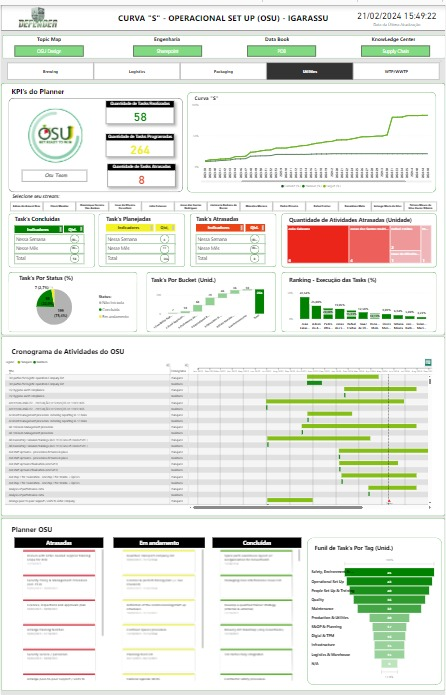

The dashboard page shown, as its layout file describes it:
{"tool":"powerbi","page":{"name":"OSU Planner KPI's","canvas":[1800,2800],"ordinal":0},"visuals":[{"type":"shape","box":[5,122.5,1795,95],"z":0},{"type":"shape","box":[0,1346,1800,728],"z":1000},{"type":"shape","box":[0,317.5,1800,1022.5],"z":2000},{"type":"textbox","box":[92,954,276,40],"z":3000},{"type":"shape","box":[622.5,122.5,132.5,32.5],"z":5000},{"type":"shape","box":[30,846.2,350,218.8],"z":6000},{"type":"shape","box":[40,327.5,237.5,45],"z":7000},{"type":"shape","box":[52,852,228,32],"z":8000},{"type":"GanttChartByMAQSoftware1448688115701","fields":{"EndDate":["Min(Cronograma Consolidado.Finish)"],"Category":["Consolidado (3).title"],"StartDate":["Min(Cronograma Consolidado.startDateTime)"],"KPIValueBag":["Cronograma Consolidado.Cronograma"],"Legend":["Cronograma Consolidado.Cronograma"]},"box":[10,1430,1738,620],"z":9000},{"type":"shape","box":[40,1377.5,500,42.5],"z":10000},{"type":"actionButton","box":[532.5,165,280,45],"z":11000},{"type":"slicer","title":"Linha","fields":{"Values":["Consolidado.Planner Name"]},"box":[0,217.5,1800,90],"z":12000},{"type":"textbox","box":[55,890.8,195.8,30.8],"z":13000},{"type":"textbox","box":[54,928,282,40],"z":14000},{"type":"textbox","box":[54,968,282,40],"z":15000},{"type":"textbox","box":[54,1008,282,40],"z":16000},{"type":"shape","box":[280,930,38,36],"z":17000},{"type":"shape","box":[1136.7,845,628.3,218.3],"z":18000},{"type":"treemap","fields":{"Group":["Lista de Task por Usuario.Nome do Usuario"],"Values":["Consolidado.Total acumulado Late"]},"box":[1155,885,593.3,163.3],"z":19000},{"type":"shape","box":[1167.1,852.9,545.7,34.3],"z":20000},{"type":"card","fields":{"Values":["Consolidado.Total acumulado de SA Real"]},"box":[280,934,36,30],"z":21000},{"type":"shape","box":[280,970,38,36],"z":22000},{"type":"shape","box":[0,0,1800,103.3],"z":23000},{"type":"card","fields":{"Values":["Min(Data da Última Atualização.Data da Última Atualização)"]},"box":[1401.7,0,398.3,103.3],"z":24000},{"type":"actionButton","box":[1457.5,165,280,45],"z":26000},{"type":"shape","box":[1500,122.5,192.5,35],"z":27000},{"type":"shape","box":[147.5,122.5,130,32.5],"z":29000},{"type":"actionButton","box":[57.5,165,280,45],"z":30000},{"type":"actionButton","box":[995,165,280,45],"z":31000},{"type":"shape","box":[1072.5,122.5,132.5,35],"z":32000},{"type":"card","fields":{"Values":["Consolidado.S Curve (EEM) - Total Complete Tasks Accumulated Utilities"]},"box":[312,432.3,68,26],"z":33000},{"type":"shape","box":[30,376.7,706.7,381.7],"z":34000},{"type":"shape","box":[28,754.1,222.1,46.7],"z":35000},{"type":"simpleImageEBC4593F96F1425FB3D84C5BF02B5075","fields":{"imageURL":["Planilha1.Column2"]},"box":[63.3,406.7,320,246.7],"z":36000},{"type":"card","title":"Produzido D-1 (HL)","fields":{"Values":["Min(Fotos Streams.Column1)"]},"box":[83.3,666.7,263.3,46.7],"z":37000},{"type":"slicer","title":"Linha","fields":{"Values":["Fotos Streams.Column1"]},"box":[9.3,787.7,1777,50.4],"z":38000},{"type":"shape","box":[1136,1082,628,244],"z":39000},{"type":"shape","box":[1168,1095.4,477.3,35.2],"z":40000},{"type":"lineStackedColumnComboChart","fields":{"Category":["Lista de Task por Usuario (2).Nome do Usuario"],"Y":["Consolidado (2).S Curve (EEM) - Total Complete Tasks Accumulated 2"]},"box":[1156,1132,592,192],"z":41000},{"type":"shape","box":[396.7,846.7,350,216.7],"z":42000},{"type":"shape","box":[763.3,846.7,350,216.7],"z":43000},{"type":"shape","box":[280,1010,38,36],"z":44000},{"type":"card","fields":{"Values":["Consolidado.Total acumulado de SA Real"]},"box":[280,975,36.2,28.8],"z":45000},{"type":"card","fields":{"Values":["Consolidado.Total acumulado de SA Real"]},"box":[280,1015,36.2,28.8],"z":46000},{"type":"shape","box":[428,852,230,32],"z":47000},{"type":"shape","box":[790,852,228,32],"z":48000},{"type":"textbox","box":[625.7,887.1,80,30],"z":49000},{"type":"textbox","box":[424.5,886.4,193.6,30.8],"z":50000},{"type":"textbox","box":[257.4,890.8,79.2,28.6],"z":51000},{"type":"textbox","box":[789.7,886.4,193.6,30.8],"z":52000},{"type":"textbox","box":[989.8,886.4,79.2,30.8],"z":53000},{"type":"textbox","box":[425,927.5,280,40],"z":54000},{"type":"textbox","box":[790,927.5,280,40],"z":55000},{"type":"textbox","box":[425,967.5,280,40],"z":56000},{"type":"textbox","box":[790,967.5,280,40],"z":57000},{"type":"shape","box":[756,350,1010,408],"z":58000},{"type":"textbox","box":[425,1007.5,280,40],"z":59000},{"type":"textbox","box":[790,1007.5,280,40],"z":60000},{"type":"shape","box":[0,2080,1800,700],"z":61000},{"type":"shape","box":[590,1082,524,244],"z":62000},{"type":"shape","box":[784,358,230,32],"z":63000},{"type":"shape","box":[30,1082,522,244],"z":64000},{"type":"lineChart","fields":{"Category":["Calendar_suporte.SA"],"Y":["Consolidado.S Curve (EEM) - Total Complete Tasks Accumulated Utilities","Consolidado.S Curve (EEM) - Total Planned Tasks Accumulated Utilities","Consolidado.S Curve (EEM) - Total Planner Accumulated Utlities"]},"box":[764,388,984,364],"z":65000},{"type":"shape","box":[645.6,930,37.8,36.7],"z":66000},{"type":"shape","box":[1010,930,38.9,36.7],"z":67000},{"type":"card","fields":{"Values":["Consolidado.Soma de quantidade por SA Plam"]},"box":[646.7,934.4,35.6,30],"z":68000},{"type":"card","fields":{"Values":["Consolidado.Total acumulado Late"]},"box":[1010,934.4,35.6,30],"z":69000},{"type":"shape","box":[646.7,970,37.8,35.6],"z":70000},{"type":"shape","box":[1008.9,970,37.8,35.6],"z":71000},{"type":"shape","box":[646.7,1010,37.8,35.6],"z":72000},{"type":"shape","box":[1008.9,1010,37.8,35.6],"z":73000},{"type":"card","fields":{"Values":["Consolidado.Soma de quantidade por SA Plam"]},"box":[646.7,975.6,36.7,27.8],"z":74000},{"type":"card","fields":{"Values":["Consolidado.Soma de quantidade por SA Plam"]},"box":[647.8,1014.4,36.7,27.8],"z":75000},{"type":"card","fields":{"Values":["Consolidado.Total acumulado Late"]},"box":[1008.9,974.4,36.7,27.8],"z":76000},{"type":"card","fields":{"Values":["Consolidado.Total acumulado Late"]},"box":[1008.9,1014.4,36.7,27.8],"z":77000},{"type":"pieChart","fields":{"Category":["Consolidado.Status"],"Y":["CountNonNull(Consolidado.title)"]},"box":[30.8,1126.2,501.5,198],"z":78000},{"type":"waterfallChart","fields":{"Y":["CountNonNull(Consolidado.title)"],"Category":["Buckets por Planner.value.name"]},"box":[607.1,1126.2,483.9,198],"z":79000},{"type":"image","box":[0,0,300,104],"z":80000},{"type":"card","title":"Quantidade de Tasks Realizadas","fields":{"Values":["Consolidado.Total acumulado de SA Real"]},"box":[425,390,275,91.7],"z":81000},{"type":"card","title":"Quantidade de Tasks Programadas","fields":{"Values":["Consolidado.Total acumulado de Task Name"]},"box":[428.3,523.3,275,91.7],"z":82000},{"type":"card","title":"Quantidade de Tasks Atrasadas","fields":{"Values":["Consolidado.Total acumulado Late"]},"box":[433.3,646.7,275,91.7],"z":83000},{"type":"shape","box":[609.3,1095.4,477.3,35.2],"z":84000},{"type":"shape","box":[70.4,1091,477.3,35.2],"z":85000},{"type":"shape","box":[40,2104,482,42],"z":86000},{"type":"CardBrowser8D7CFFDA2E7E400C9474F41B9EDBBA58","fields":{"id":["Consolidado.id"],"title":["Cronograma Consolidado.title"],"subtitle":["Consolidado.startDateTime","Cronograma Consolidado.dueDateTime"],"topBarColor":["Consolidado.Cor Planner"]},"box":[54,2202,366,540],"z":87000},{"type":"shape","box":[54,2160,360,42],"z":88000},{"type":"shape","box":[454,2160,370,42],"z":89000},{"type":"shape","box":[860,2160,360,42],"z":90000},{"type":"CardBrowser8D7CFFDA2E7E400C9474F41B9EDBBA58","fields":{"id":["Consolidado.id"],"title":["Cronograma Consolidado.title"],"subtitle":["Consolidado.startDateTime","Cronograma Consolidado.dueDateTime"],"topBarColor":["Consolidado.Cor Planner"]},"box":[454,2202,370,540],"z":91000},{"type":"CardBrowser8D7CFFDA2E7E400C9474F41B9EDBBA58","fields":{"id":["Consolidado.id"],"title":["Cronograma Consolidado.title"],"subtitle":["Consolidado.startDateTime","Cronograma Consolidado.dueDateTime"],"topBarColor":["Consolidado.Cor Planner"]},"box":[860,2202,360,540],"z":92000},{"type":"shape","box":[1237.5,2160,547.5,597.5],"z":93000},{"type":"shape","box":[1270,2180,477.5,35],"z":94000},{"type":"funnel","fields":{"Category":["Categorias das Tasks.Categoria da Task"],"Y":["Count(Categorias das Tasks.id)"]},"box":[1255,2230,512.5,505],"z":95000}]}

Visuals, with their boxes in screenshot pixels (x1, y1, x2, y2), scaled from the page's 1800x2800 canvas onto the 446x695 screenshot:
shape: select_region(1, 30, 445, 54)
shape: select_region(0, 334, 445, 515)
shape: select_region(0, 79, 445, 333)
textbox: select_region(23, 237, 91, 247)
shape: select_region(154, 30, 187, 38)
shape: select_region(7, 210, 94, 264)
shape: select_region(10, 81, 69, 92)
shape: select_region(13, 211, 69, 219)
GanttChartByMAQSoftware1448688115701 - Min(Cronograma Consolidado.Finish) x Consolidado (3).title: select_region(2, 355, 433, 509)
shape: select_region(10, 342, 134, 352)
actionButton: select_region(132, 41, 201, 52)
"Linha" slicer: select_region(0, 54, 445, 76)
textbox: select_region(14, 221, 62, 229)
textbox: select_region(13, 230, 83, 240)
textbox: select_region(13, 240, 83, 250)
textbox: select_region(13, 250, 83, 260)
shape: select_region(69, 231, 79, 240)
shape: select_region(282, 210, 437, 264)
treemap - Lista de Task por Usuario.Nome do Usuario x Consolidado.Total acumulado Late: select_region(286, 220, 433, 260)
shape: select_region(289, 212, 424, 220)
card - Consolidado.Total acumulado de SA Real: select_region(69, 232, 78, 239)
shape: select_region(69, 241, 79, 250)
shape: select_region(0, 0, 445, 26)
card - Min(Data da Última Atualização.Data da Última Atualização): select_region(347, 0, 445, 26)
actionButton: select_region(361, 41, 431, 52)
shape: select_region(372, 30, 419, 39)
shape: select_region(37, 30, 69, 38)
actionButton: select_region(14, 41, 84, 52)
actionButton: select_region(247, 41, 316, 52)
shape: select_region(266, 30, 299, 39)
card - Consolidado.S Curve (EEM) - Total Complete Tasks Accumulated Utilities: select_region(77, 107, 94, 114)
shape: select_region(7, 94, 183, 188)
shape: select_region(7, 187, 62, 199)
simpleImageEBC4593F96F1425FB3D84C5BF02B5075 - Planilha1.Column2: select_region(16, 101, 95, 162)
"Produzido D-1 (HL)" card: select_region(21, 165, 86, 177)
"Linha" slicer: select_region(2, 196, 443, 208)
shape: select_region(281, 269, 437, 329)
shape: select_region(289, 272, 408, 281)
lineStackedColumnComboChart - Lista de Task por Usuario (2).Nome do Usuario x Consolidado (2).S Curve (EEM) - Total Complete Tasks Accumulated 2: select_region(286, 281, 433, 329)
shape: select_region(98, 210, 185, 264)
shape: select_region(189, 210, 276, 264)
shape: select_region(69, 251, 79, 260)
card - Consolidado.Total acumulado de SA Real: select_region(69, 242, 78, 249)
card - Consolidado.Total acumulado de SA Real: select_region(69, 252, 78, 259)
shape: select_region(106, 211, 163, 219)
shape: select_region(196, 211, 252, 219)
textbox: select_region(155, 220, 175, 228)
textbox: select_region(105, 220, 153, 228)
textbox: select_region(64, 221, 83, 228)
textbox: select_region(196, 220, 244, 228)
textbox: select_region(245, 220, 265, 228)
textbox: select_region(105, 230, 175, 240)
textbox: select_region(196, 230, 265, 240)
textbox: select_region(105, 240, 175, 250)
textbox: select_region(196, 240, 265, 250)
shape: select_region(187, 87, 438, 188)
textbox: select_region(105, 250, 175, 260)
textbox: select_region(196, 250, 265, 260)
shape: select_region(0, 516, 445, 690)
shape: select_region(146, 269, 276, 329)
shape: select_region(194, 89, 251, 97)
shape: select_region(7, 269, 137, 329)
lineChart - Calendar_suporte.SA x Consolidado.S Curve (EEM) - Total Complete Tasks Accumulated Utilities: select_region(189, 96, 433, 187)
shape: select_region(160, 231, 169, 240)
shape: select_region(250, 231, 260, 240)
card - Consolidado.Soma de quantidade por SA Plam: select_region(160, 232, 169, 239)
card - Consolidado.Total acumulado Late: select_region(250, 232, 259, 239)
shape: select_region(160, 241, 170, 250)
shape: select_region(250, 241, 259, 250)
shape: select_region(160, 251, 170, 260)
shape: select_region(250, 251, 259, 260)
card - Consolidado.Soma de quantidade por SA Plam: select_region(160, 242, 169, 249)
card - Consolidado.Soma de quantidade por SA Plam: select_region(161, 252, 170, 259)
card - Consolidado.Total acumulado Late: select_region(250, 242, 259, 249)
card - Consolidado.Total acumulado Late: select_region(250, 252, 259, 259)
pieChart - Consolidado.Status x CountNonNull(Consolidado.title): select_region(8, 280, 132, 329)
waterfallChart - CountNonNull(Consolidado.title) x Buckets por Planner.value.name: select_region(150, 280, 270, 329)
image: select_region(0, 0, 74, 26)
"Quantidade de Tasks Realizadas" card: select_region(105, 97, 173, 120)
"Quantidade de Tasks Programadas" card: select_region(106, 130, 174, 153)
"Quantidade de Tasks Atrasadas" card: select_region(107, 161, 176, 183)
shape: select_region(151, 272, 269, 281)
shape: select_region(17, 271, 136, 280)
shape: select_region(10, 522, 129, 533)
CardBrowser8D7CFFDA2E7E400C9474F41B9EDBBA58 - Consolidado.id x Cronograma Consolidado.title: select_region(13, 547, 104, 681)
shape: select_region(13, 536, 103, 547)
shape: select_region(112, 536, 204, 547)
shape: select_region(213, 536, 302, 547)
CardBrowser8D7CFFDA2E7E400C9474F41B9EDBBA58 - Consolidado.id x Cronograma Consolidado.title: select_region(112, 547, 204, 681)
CardBrowser8D7CFFDA2E7E400C9474F41B9EDBBA58 - Consolidado.id x Cronograma Consolidado.title: select_region(213, 547, 302, 681)
shape: select_region(307, 536, 442, 684)
shape: select_region(315, 541, 433, 550)
funnel - Categorias das Tasks.Categoria da Task x Count(Categorias das Tasks.id): select_region(311, 554, 438, 679)
